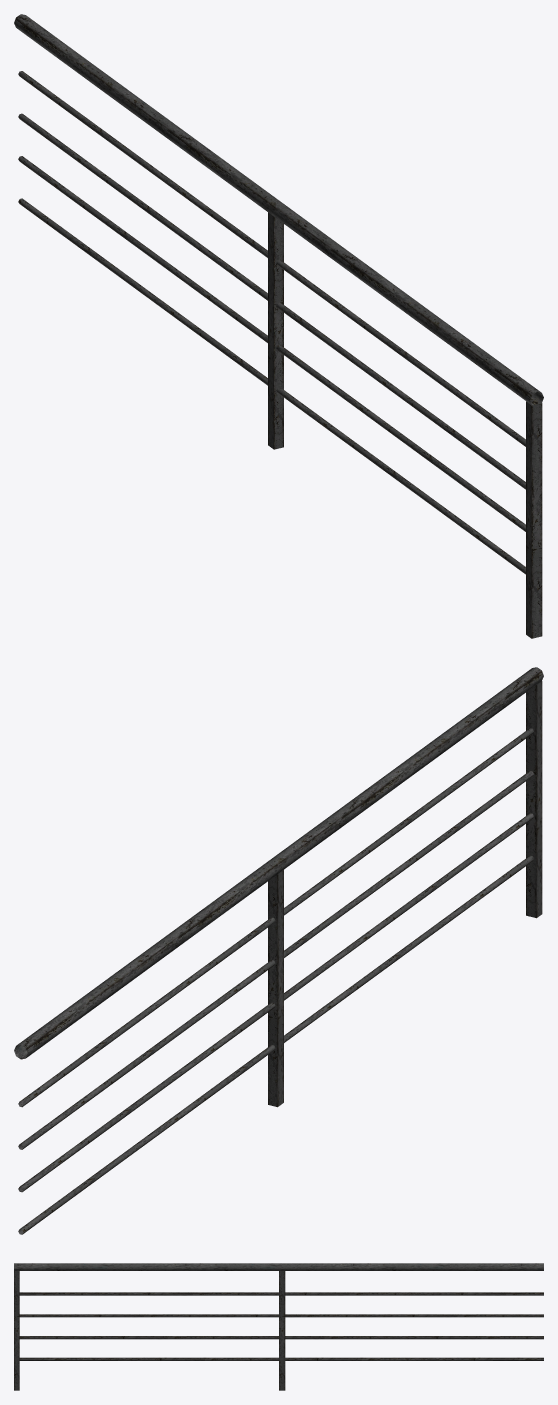
File: p6_blackout_rail_128_lod0.glb
3 views of the same model, one above another, from view 1: azimuth 30°, elevation 25°; view 2: azimuth 150°, elevation 25°; view 3: azimuth 270°, elevation 25° (orthographic). The views are drawn at different scales.
Visible parts, largest first — view 1: surf0; view 2: surf0; view 3: surf0.
Part boxes in pixels (x1=…): surf0: x1=14, y1=14, x2=543, y2=638; surf0: x1=14, y1=667, x2=543, y2=1234; surf0: x1=14, y1=1263, x2=543, y2=1390.
Bounding box in the file's own units: 1.99 × 33.61 × 128.
